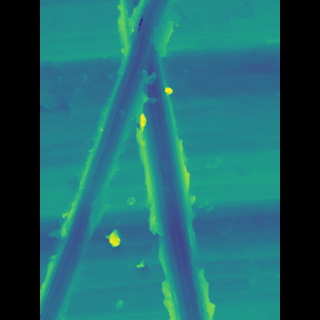Loch: (69, 0, 198, 320)
